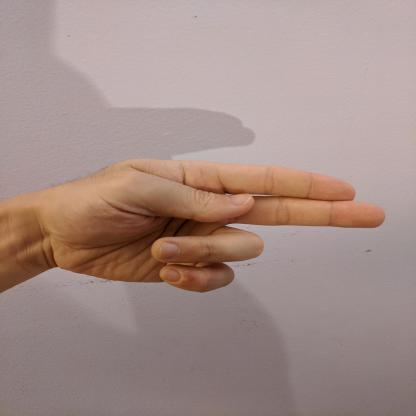H: (42, 152, 392, 296)
